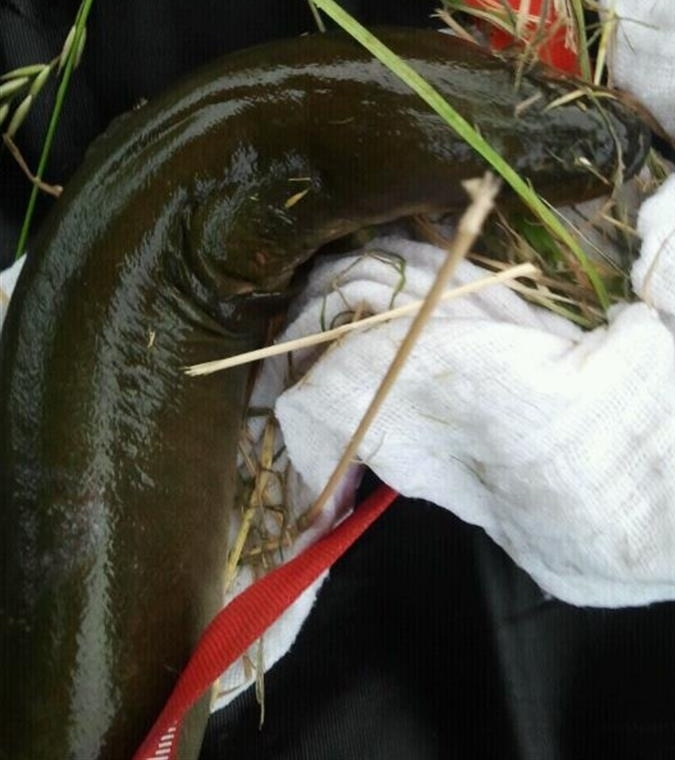Anguilla anguilla: (1, 20, 655, 760)
